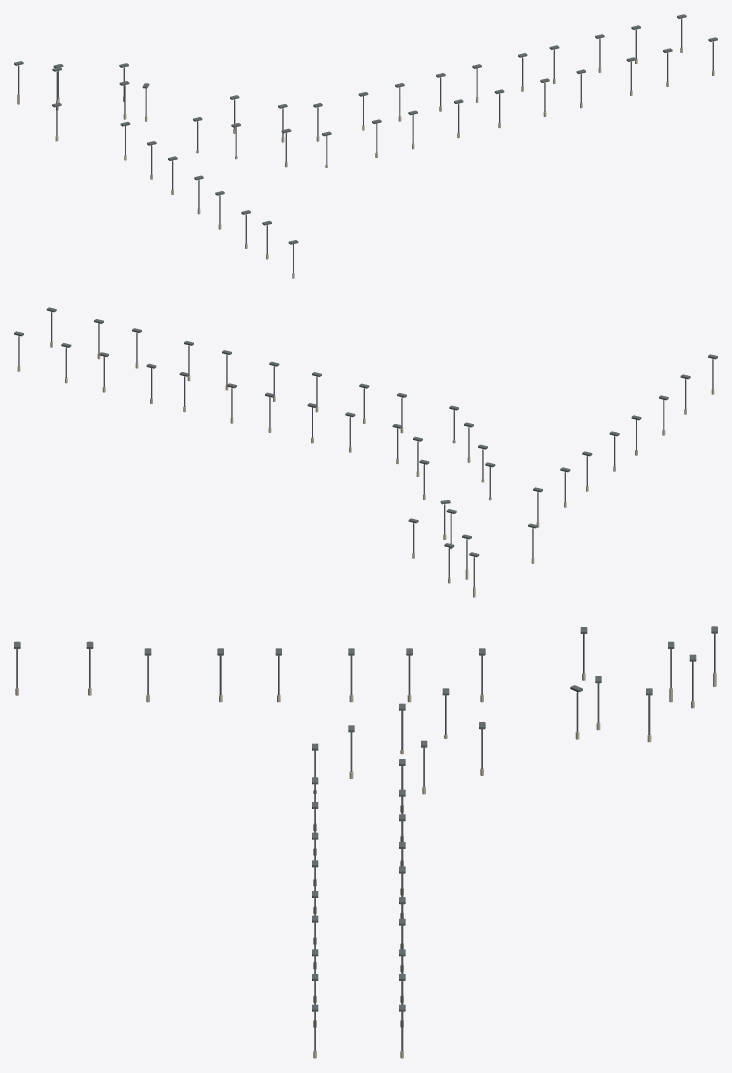
The picture shows the model from 3 angles, top to bottom: view 1: azimuth 30°, elevation 25°; view 2: azimuth 150°, elevation 25°; view 3: azimuth 270°, elevation 25°; orthographic projection. The views are drawn at different scales.
Parts seen in each view (by area): view 1: buildings_s_-8_2_Dark_Metal, buildings_s_-8_2_Warm_Limestone; view 2: buildings_s_-8_2_Dark_Metal, buildings_s_-8_2_Warm_Limestone; view 3: buildings_s_-8_2_Dark_Metal, buildings_s_-8_2_Warm_Limestone.
Part boxes in pixels (box(x1,y1,x2,y2)): buildings_s_-8_2_Dark_Metal: box(14, 14, 717, 273); buildings_s_-8_2_Warm_Limestone: box(17, 47, 714, 278); buildings_s_-8_2_Dark_Metal: box(14, 307, 717, 587); buildings_s_-8_2_Warm_Limestone: box(17, 342, 714, 597); buildings_s_-8_2_Dark_Metal: box(14, 626, 717, 1051); buildings_s_-8_2_Warm_Limestone: box(15, 672, 716, 1058).
Bounding box in the file's own units: 125 × 8.68 × 96.9.
